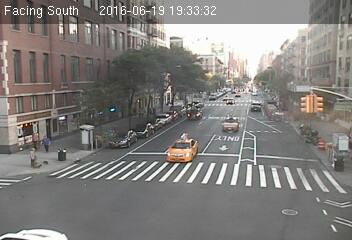neg: (239, 162, 272, 206), (104, 174, 128, 205), (179, 137, 199, 164), (253, 19, 272, 45), (297, 54, 314, 77), (67, 80, 84, 102), (156, 64, 172, 85), (209, 72, 224, 91), (11, 54, 25, 73), (97, 58, 110, 76), (104, 29, 115, 45), (258, 108, 269, 122), (48, 39, 58, 52)
pos: (21, 145, 38, 168), (25, 126, 42, 149), (38, 131, 55, 153)
